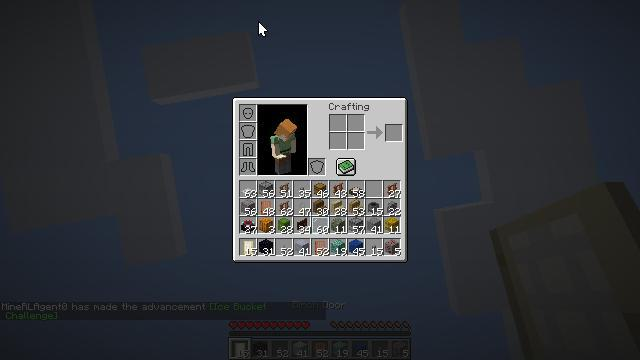cursor: (258, 21, 268, 37)
